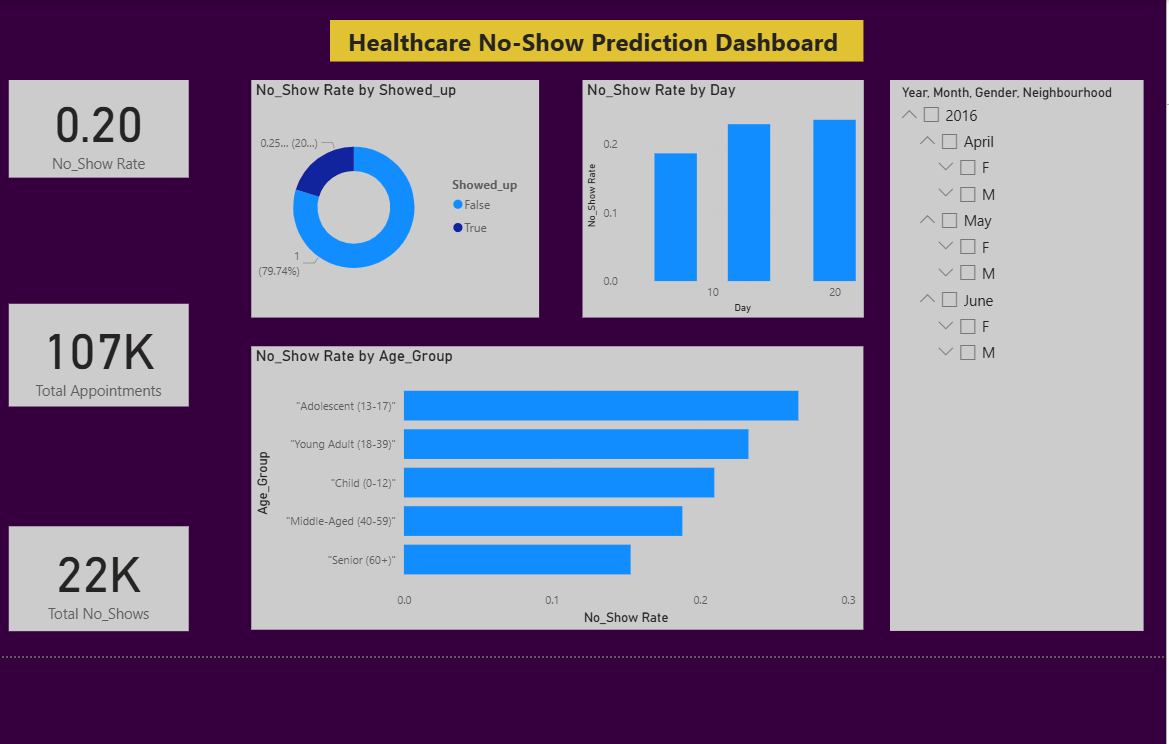

What the dashboard file says about the page in this screenshot:
{"tool":"powerbi","page":{"name":"Page 1","canvas":[1280,720],"ordinal":0},"visuals":[{"type":"card","fields":{"Values":["healthcare_noshows.No_Show Rate"]},"box":[9.6,87.8,197.6,107],"z":0},{"type":"card","fields":{"Values":["healthcare_noshows.Total Appointments"]},"box":[9.6,333.4,197.6,112.5],"z":1000},{"type":"card","fields":{"Values":["healthcare_noshows.Total No_Shows"]},"box":[9.6,577.7,197.6,115.3],"z":2000},{"type":"donutChart","fields":{"Category":["healthcare_noshows.Showed_up"],"Y":["healthcare_noshows.No_Show Rate"]},"box":[275.8,87.8,315.6,260.7],"z":3000},{"type":"textbox","box":[362.3,22,585.9,45.3],"z":4000},{"type":"clusteredColumnChart","fields":{"Y":["healthcare_noshows.No_Show Rate"],"Category":["healthcare_noshows.AppointmentDay.Variation.Date Hierarchy.Day"]},"box":[639.5,87.8,308.7,260.7],"z":5000},{"type":"barChart","fields":{"Category":["healthcare_noshows.Age_Group"],"Y":["healthcare_noshows.No_Show Rate"]},"box":[275.8,380.1,672.4,311.5],"z":6000},{"type":"slicer","fields":{"Values":["healthcare_noshows.AppointmentDay.Variation.Date Hierarchy.Year","healthcare_noshows.AppointmentDay.Variation.Date Hierarchy.Month","healthcare_noshows.Gender","healthcare_noshows.Neighbourhood"]},"box":[977,87.8,278.6,605.1],"z":7000}]}

Visuals, with their boxes in screenshot pixels (x1, y1, x2, y2):
card - healthcare_noshows.No_Show Rate: bbox=[15, 79, 193, 175]
card - healthcare_noshows.Total Appointments: bbox=[15, 300, 193, 402]
card - healthcare_noshows.Total No_Shows: bbox=[15, 520, 193, 624]
donutChart - healthcare_noshows.Showed_up x healthcare_noshows.No_Show Rate: bbox=[254, 79, 539, 314]
textbox: bbox=[332, 20, 860, 61]
clusteredColumnChart - healthcare_noshows.No_Show Rate x healthcare_noshows.AppointmentDay.Variation.Date Hierarchy.Day: bbox=[582, 79, 860, 314]
barChart - healthcare_noshows.Age_Group x healthcare_noshows.No_Show Rate: bbox=[254, 342, 860, 623]
slicer - healthcare_noshows.AppointmentDay.Variation.Date Hierarchy.Year x healthcare_noshows.AppointmentDay.Variation.Date Hierarchy.Month: bbox=[886, 79, 1137, 624]
